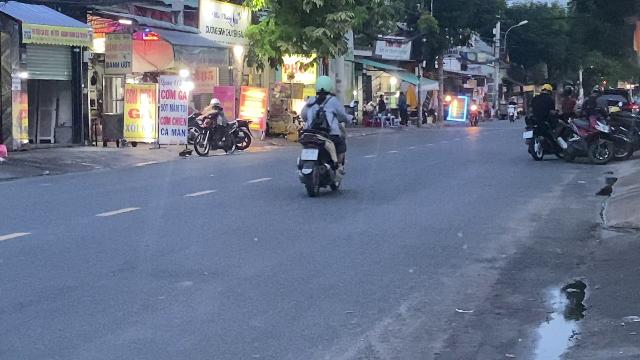helmet: (312, 75, 333, 95)
licenseplate: (302, 148, 318, 160)
motorcyclist: (295, 74, 349, 196)
